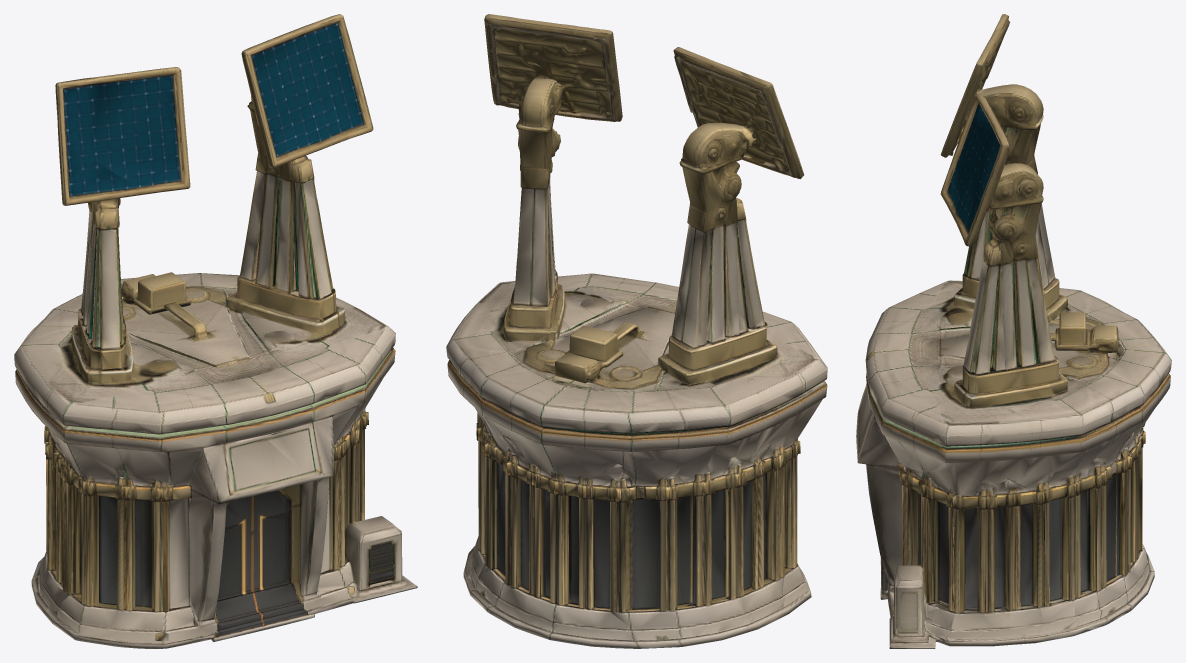
Rendered from solar-array.glb.
3 renders of one model, left to right at view 1: azimuth 30°, elevation 25°; view 2: azimuth 150°, elevation 25°; view 3: azimuth 270°, elevation 25°, orthographic. The views are drawn at different scales.
Visible parts, largest first — view 1: mesh_node; view 2: mesh_node; view 3: mesh_node.
Boxes of the visible parts, bbox=[...] form: mesh_node: bbox=[14, 14, 417, 648]; mesh_node: bbox=[446, 14, 827, 648]; mesh_node: bbox=[856, 14, 1171, 648].
Bounding box in the file's own units: 1.31 × 2 × 1.15.
1 material, 1 textured.
